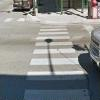Crosswalk: (26, 16, 82, 97)
